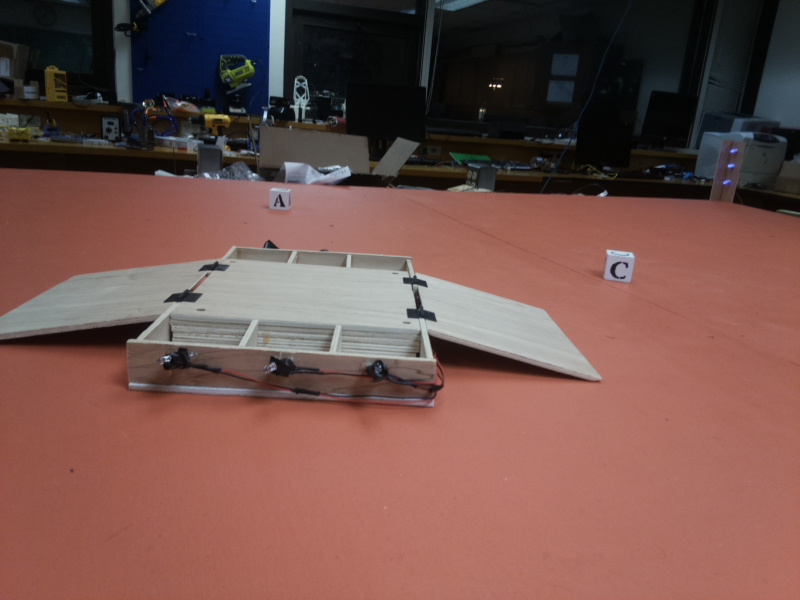blockA: (266, 185, 294, 218)
blockC: (602, 249, 640, 290)
corner: (706, 139, 748, 203)
side: (127, 314, 445, 415)
slope: (422, 268, 606, 389), (1, 252, 223, 345)
